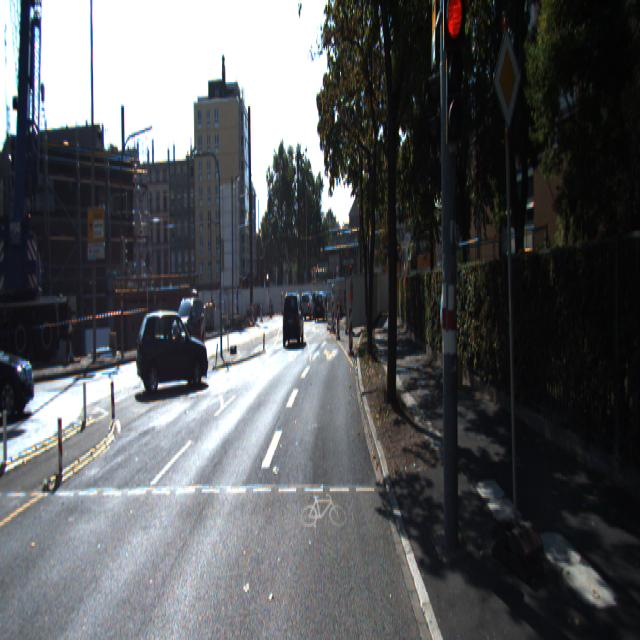Car: (135, 306, 210, 398), (0, 312, 42, 418), (170, 292, 205, 350), (282, 286, 303, 344), (286, 292, 299, 329)
DontCare: (0, 0, 75, 389), (300, 284, 334, 326)
